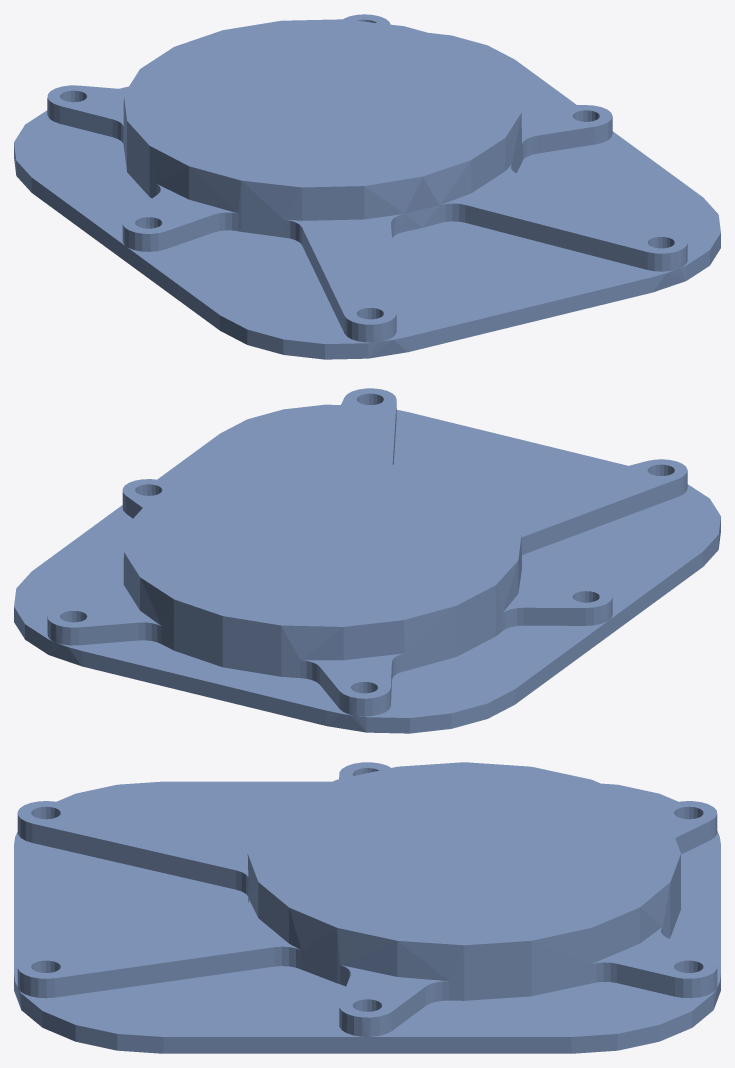
The model's file is case_fix.dae.
3 renders of one model, top to bottom at view 1: azimuth 30°, elevation 25°; view 2: azimuth 150°, elevation 25°; view 3: azimuth 270°, elevation 25°, orthographic. The views are drawn at different scales.
Visible parts, largest first — view 1: MainBody_WithoutARGOSModule_004; view 2: MainBody_WithoutARGOSModule_004; view 3: MainBody_WithoutARGOSModule_004.
Boxes of the visible parts, <box> form: MainBody_WithoutARGOSModule_004: <box>14,14,720,359</box>; MainBody_WithoutARGOSModule_004: <box>14,388,720,733</box>; MainBody_WithoutARGOSModule_004: <box>14,762,720,1053</box>.
Bounding box in the file's own units: 106 × 124 × 14.
